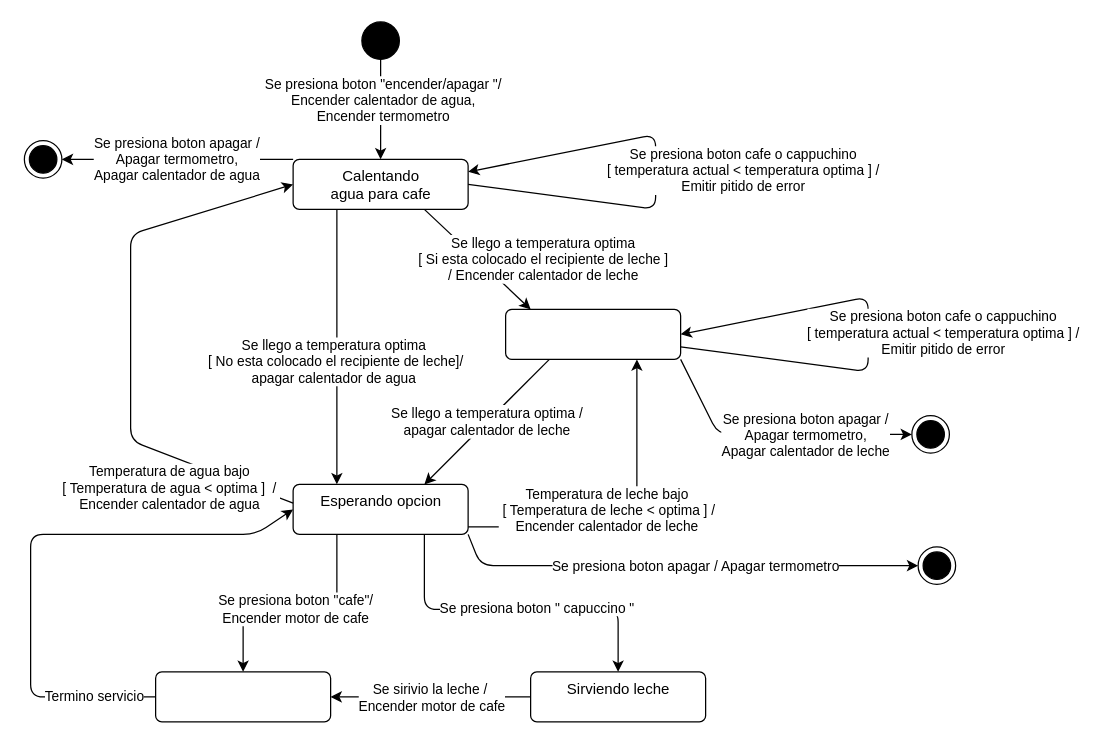
Image size: 1101x744. Some labels were removed from this diagram. Each missing label, with the centre of its shape:
Calentando leche: (592,333)
Esperando tiempo de servicio de cafe: (242,696)
